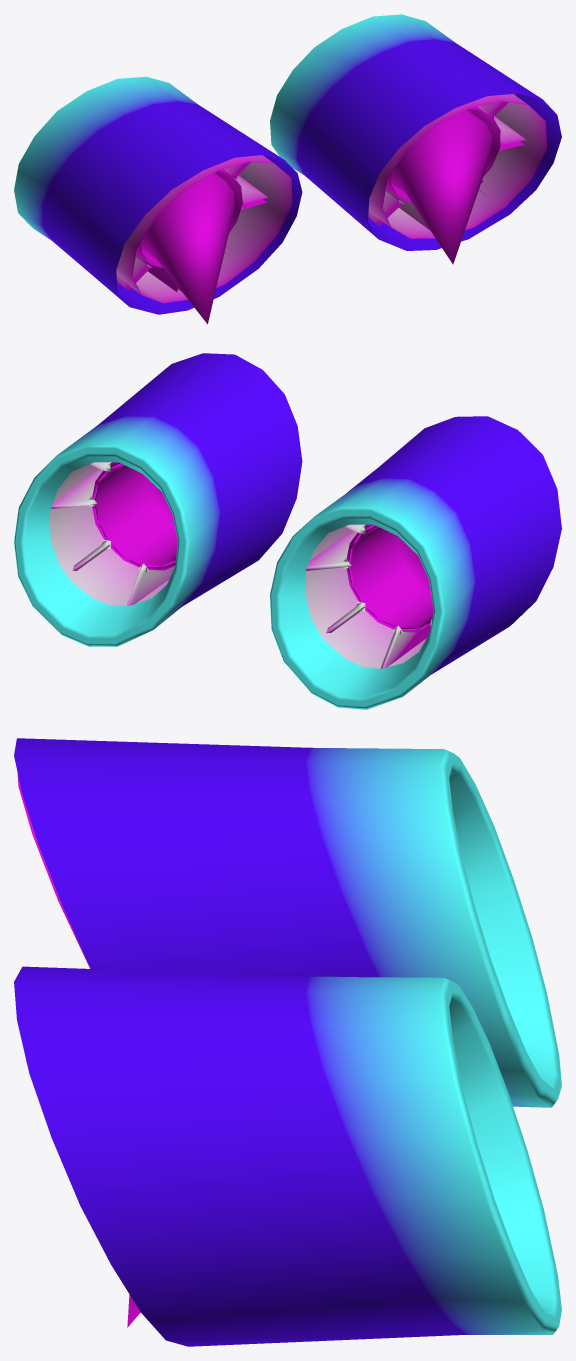
The model's file is Car_Ford_GT_2017_Exhausts_SetC.fbx.
3 views of the same model, one above another, from view 1: azimuth 30°, elevation 25°; view 2: azimuth 150°, elevation 25°; view 3: azimuth 270°, elevation 25° (orthographic). The views are drawn at different scales.
Visible parts, largest first — view 1: Exhausts 6; view 2: Exhausts 6; view 3: Exhausts 6.
Boxes of the visible parts, x1,y1,x2,y2 form: Exhausts 6: [14, 14, 561, 324]; Exhausts 6: [14, 353, 561, 709]; Exhausts 6: [14, 738, 561, 1346].
Bounding box in the file's own units: 0.34 × 0.1414 × 0.2011.
